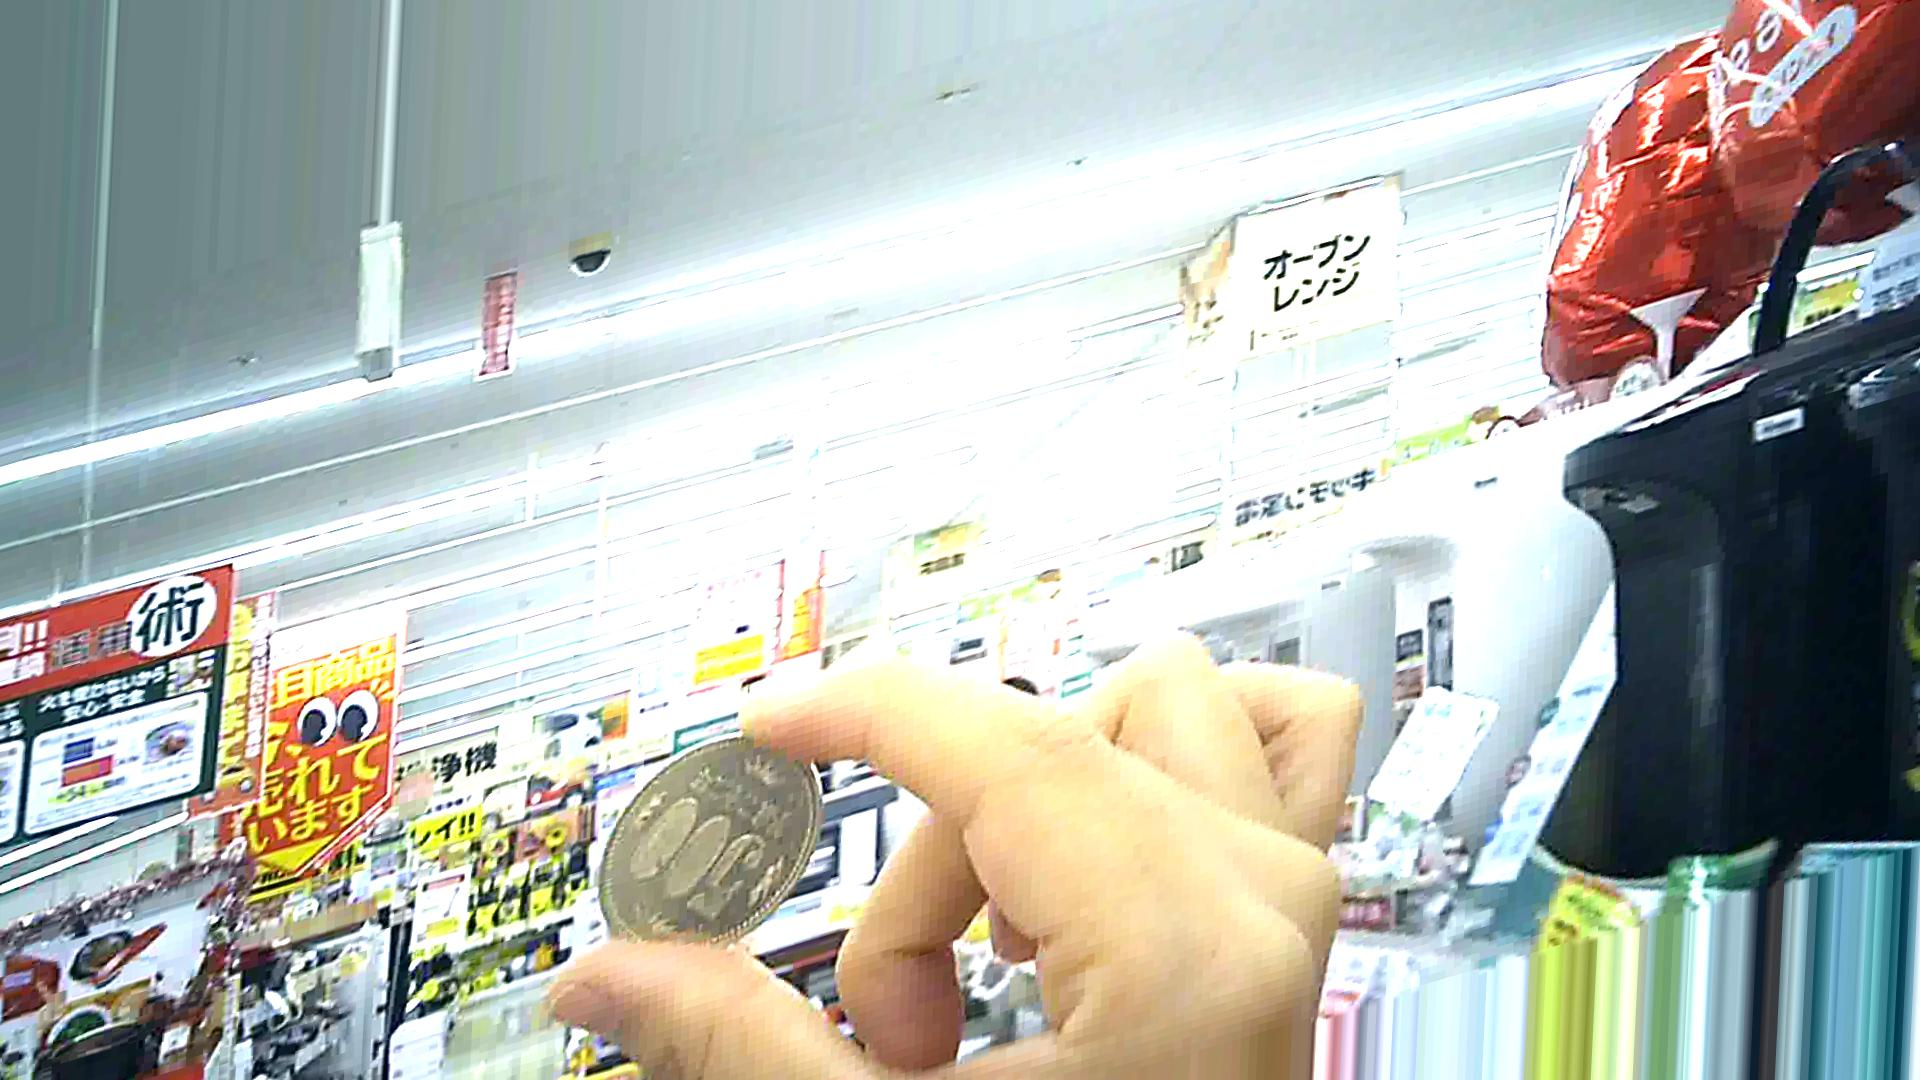500 Yen: (585, 727, 847, 956)
